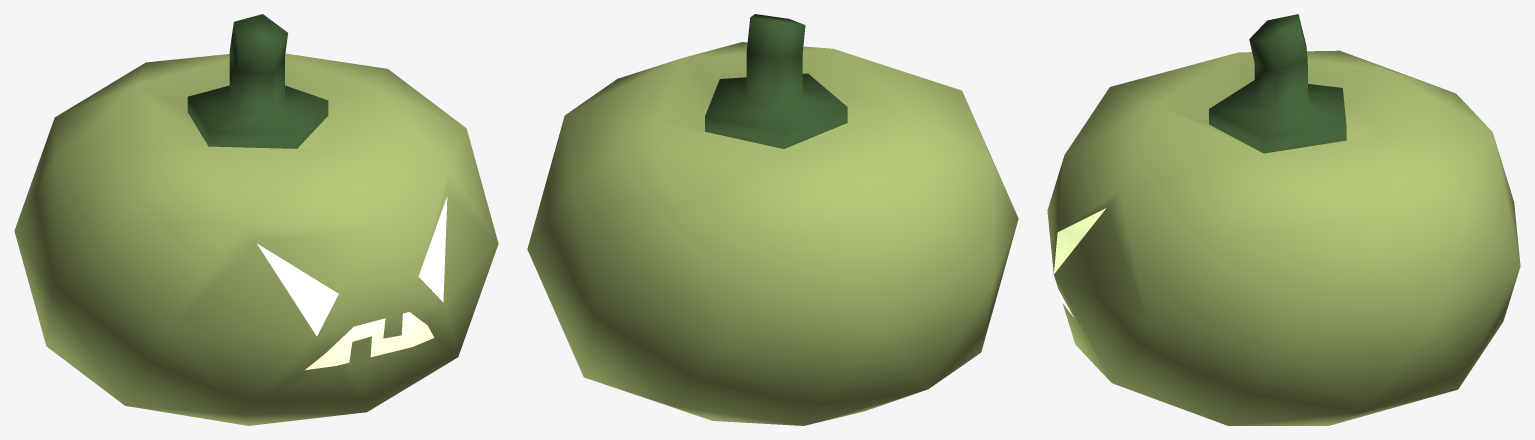
The model's file is pumpkinGreen.glb.
3 renders of one model, left to right at view 1: azimuth 30°, elevation 25°; view 2: azimuth 150°, elevation 25°; view 3: azimuth 270°, elevation 25°, orthographic. The views are drawn at different scales.
Parts seen in each view (by area): view 1: PumpkinGreen; view 2: PumpkinGreen; view 3: PumpkinGreen.
Part boxes in pixels (box(x1,y1,x2,y2)): PumpkinGreen: box(14, 14, 498, 425); PumpkinGreen: box(527, 14, 1018, 425); PumpkinGreen: box(1047, 14, 1520, 425).
Size of what is drawn, in the model's own units: 0.6506 by 0.5167 by 0.6272.
Materials: 2 (1 with a texture image).
